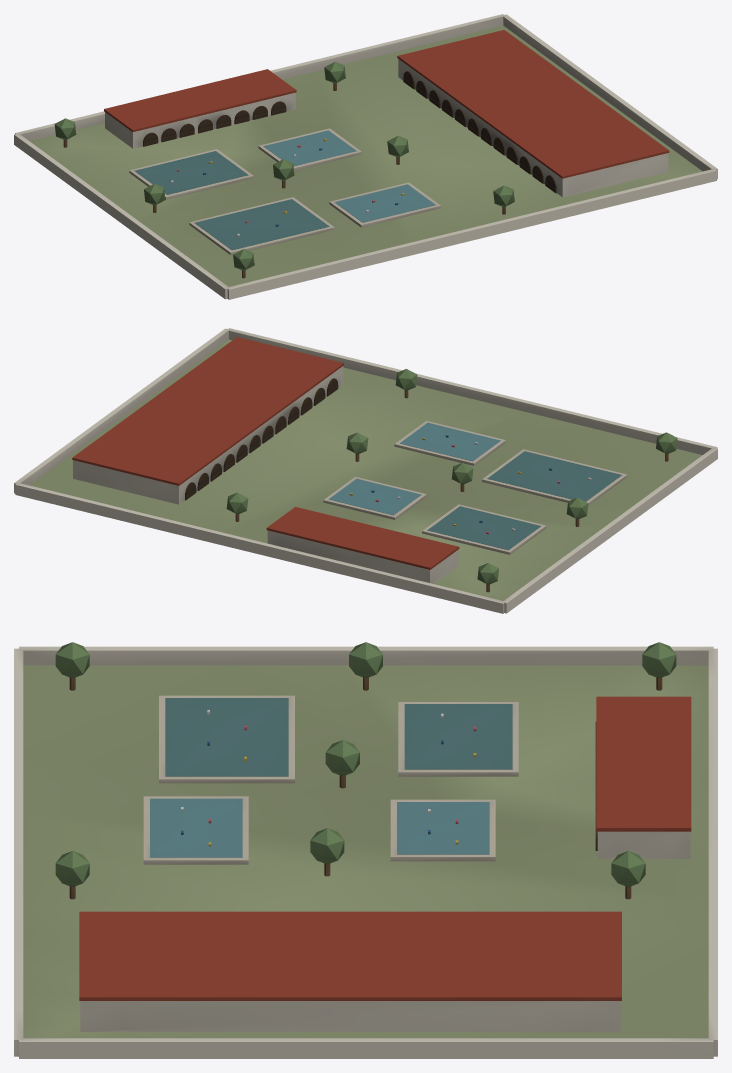
The model's file is totocalli.glb.
3 views of the same model, one above another, from view 1: azimuth 30°, elevation 25°; view 2: azimuth 150°, elevation 25°; view 3: azimuth 270°, elevation 25° (orthographic). The views are drawn at different scales.
Visible parts, largest first — view 1: p0_garden, p2_roofs, p1_galleries; view 2: p0_garden, p2_roofs, p1_galleries; view 3: p0_garden, p2_roofs, p1_galleries.
Boxes of the visible parts, box(x1,y1,x2,y2) form: p0_garden: box(14, 14, 717, 299); p2_roofs: box(54, 30, 669, 278); p1_galleries: box(105, 59, 668, 254); p0_garden: box(14, 328, 717, 613); p2_roofs: box(72, 337, 677, 592); p1_galleries: box(73, 366, 627, 583); p0_garden: box(14, 646, 717, 1058); p2_roofs: box(55, 642, 691, 1000); p1_galleries: box(80, 695, 690, 1031).
Bounding box in the file's own units: 121 × 7.06 × 91.2.
